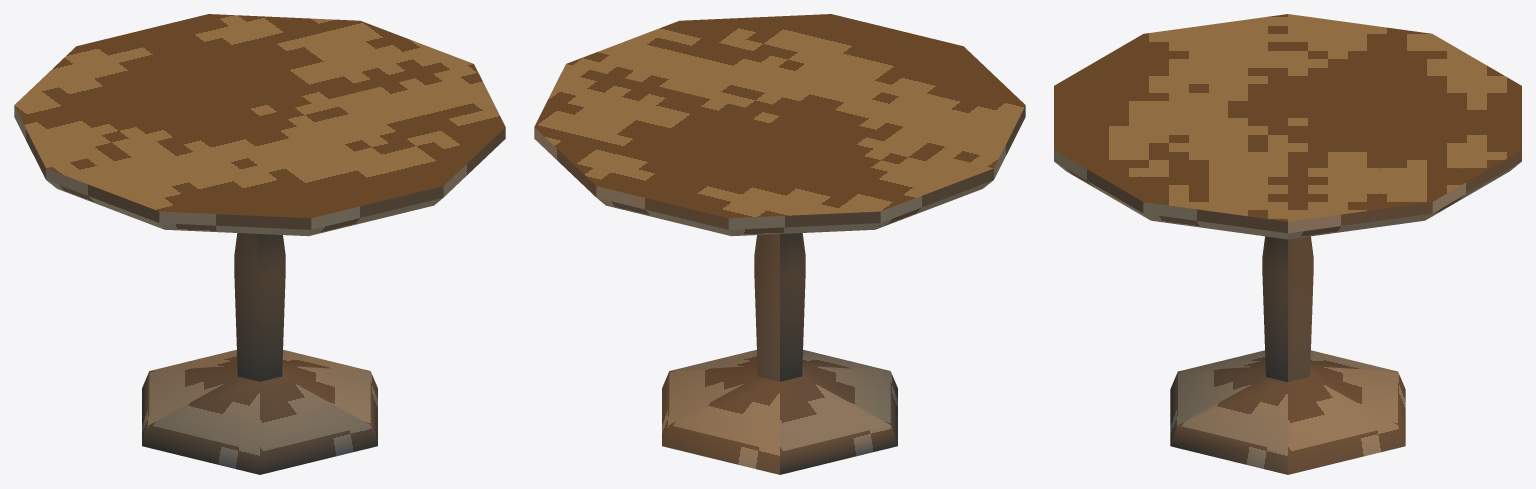
Rendered from wprop.table.glb.
3 renders of one model, left to right at view 1: azimuth 30°, elevation 25°; view 2: azimuth 150°, elevation 25°; view 3: azimuth 270°, elevation 25°, orthographic.
Visible parts, largest first — view 1: kit_top, kit_pedestal; view 2: kit_top, kit_pedestal; view 3: kit_top, kit_pedestal.
Boxes of the visible parts, bbox=[...] form: kit_top: bbox=[14, 14, 505, 236]; kit_pedestal: bbox=[142, 233, 377, 474]; kit_top: bbox=[534, 14, 1025, 236]; kit_pedestal: bbox=[662, 233, 897, 474]; kit_top: bbox=[1054, 14, 1521, 239]; kit_pedestal: bbox=[1170, 236, 1405, 474].
Size of the model in its own units: 1.16 by 0.78 by 1.1.
Materials: 1 (1 with a texture image).
